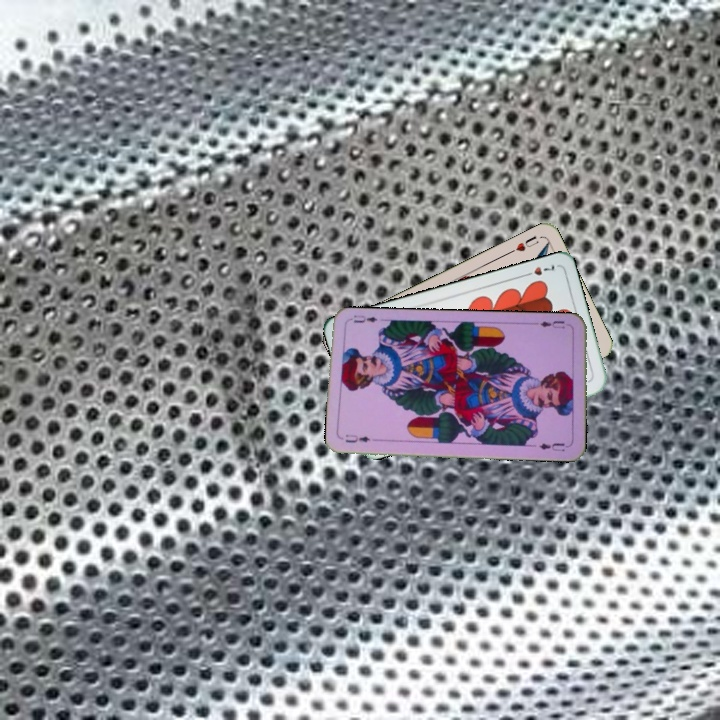EU: (532, 316, 572, 332), (341, 431, 381, 445)
H7: (519, 260, 558, 279)
HU: (505, 231, 541, 256)
